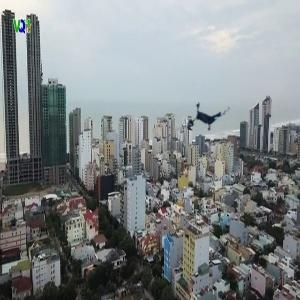drone: (191, 96, 230, 135)
